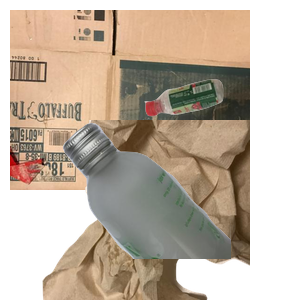cardboard: (10, 10, 250, 190)
glass: (60, 120, 300, 300)
plastic: (142, 77, 300, 186)
trash: (40, 120, 280, 300)
